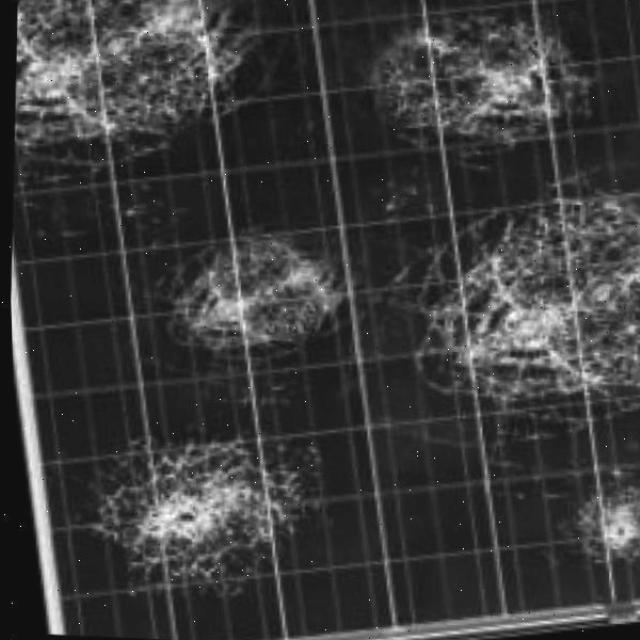Anomaly Solar Panel: (8, 0, 640, 640)
Structural Damage: (370, 160, 640, 476), (7, 0, 266, 188), (75, 421, 316, 613), (136, 211, 358, 393), (372, 13, 587, 169), (565, 468, 640, 576)
